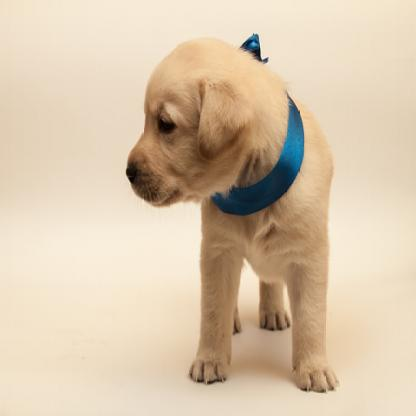Labarador Retriever: (115, 41, 336, 393)
